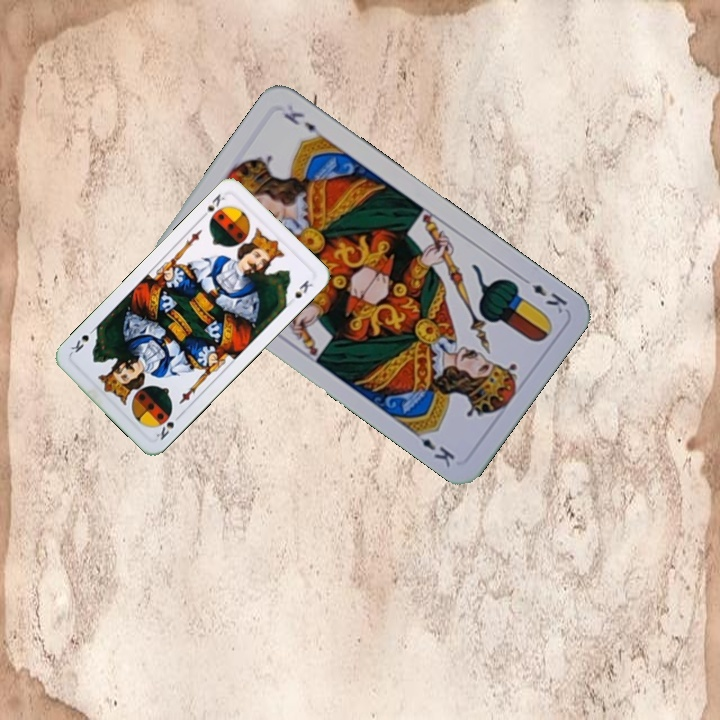EK: (517, 272, 570, 316)
SK: (152, 410, 184, 443), (197, 190, 227, 222)
